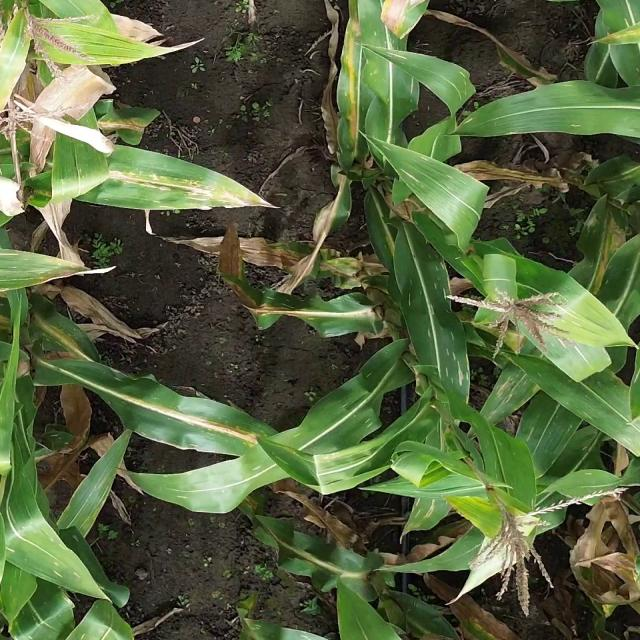gray-leaf-spot: (404, 260, 471, 384), (103, 160, 250, 210), (4, 509, 78, 578), (378, 144, 471, 196), (382, 51, 472, 97), (334, 368, 392, 432), (572, 390, 635, 441), (1, 248, 73, 288), (71, 470, 116, 532), (474, 424, 516, 490), (17, 598, 76, 640), (489, 366, 536, 412), (519, 418, 568, 461), (548, 300, 599, 334), (406, 494, 444, 538), (233, 616, 297, 640)
northern-leaf-blight: (145, 397, 265, 451), (264, 292, 384, 333), (94, 104, 170, 147), (316, 165, 358, 239), (339, 43, 365, 133), (588, 223, 616, 292)
